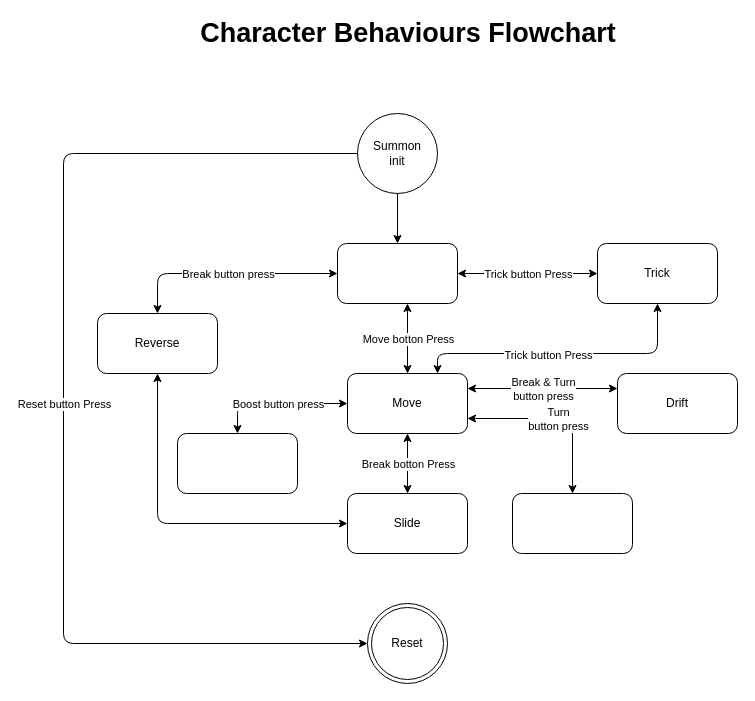
Some shapes in this 755 by 701 pixel diagram are drawn without their labels. The centre of each missing label's shape, as x and y in pixels:
"Boost" goes at point (237, 463).
"Idle" goes at point (397, 273).
"Turn" goes at point (572, 523).
